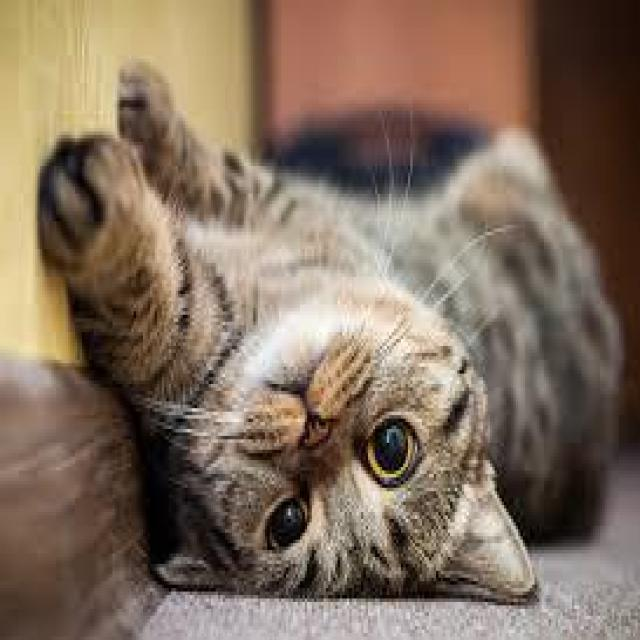Cat: (152, 284, 552, 618)
